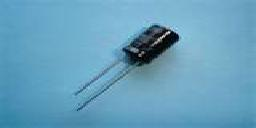Electrolytic-Capacitor: (71, 22, 184, 126)
